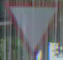Give way: (3, 2, 56, 51)
